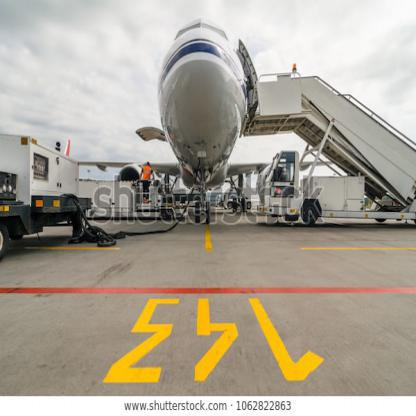CIV_Plane: (134, 6, 285, 240)
